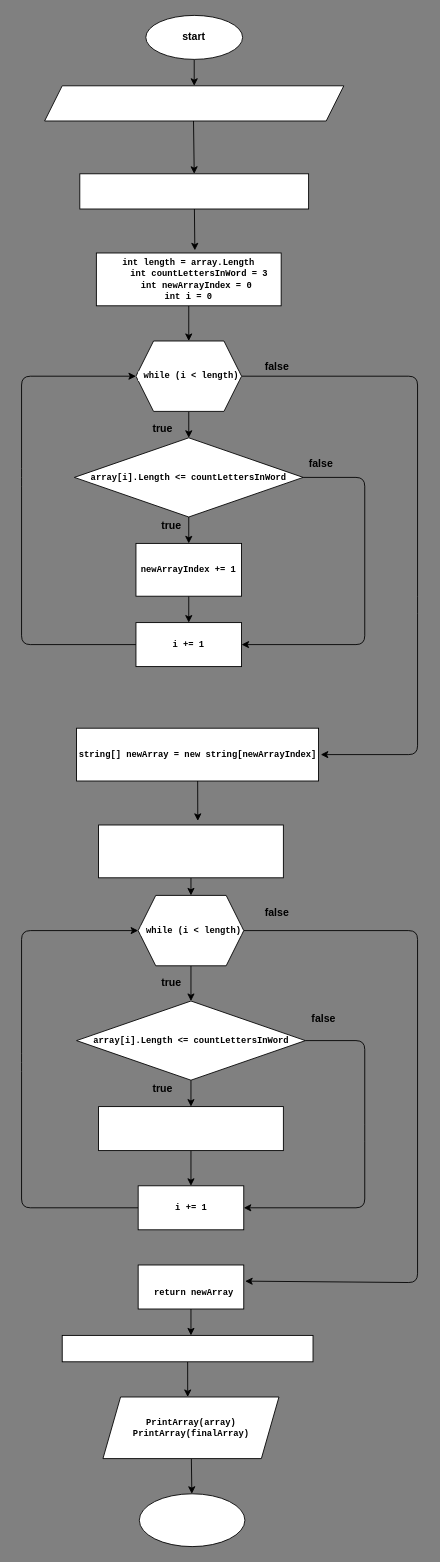
Some shapes in this 440 by 1562 pixel diagram are drawn without their labels. The box of each missing label's shape, as (x1, y1, x2, y2) in pixels:
end: (138, 1493, 245, 1547)
length = array.Length countLettersInWord = 3 newArrayIndex = 0 i = 0: (98, 824, 283, 878)
newArray[newArrayIndex] = array[i] newArrayIndex += 1: (98, 1106, 283, 1151)
string[] array = {"home", "9", "ox", "fortune", ":-)"}: (44, 85, 344, 121)
string[] finalArray = SelectWordInArray(array): (61, 1335, 313, 1362)
string[] SelectWordInArray(string[] array): (79, 173, 309, 209)
